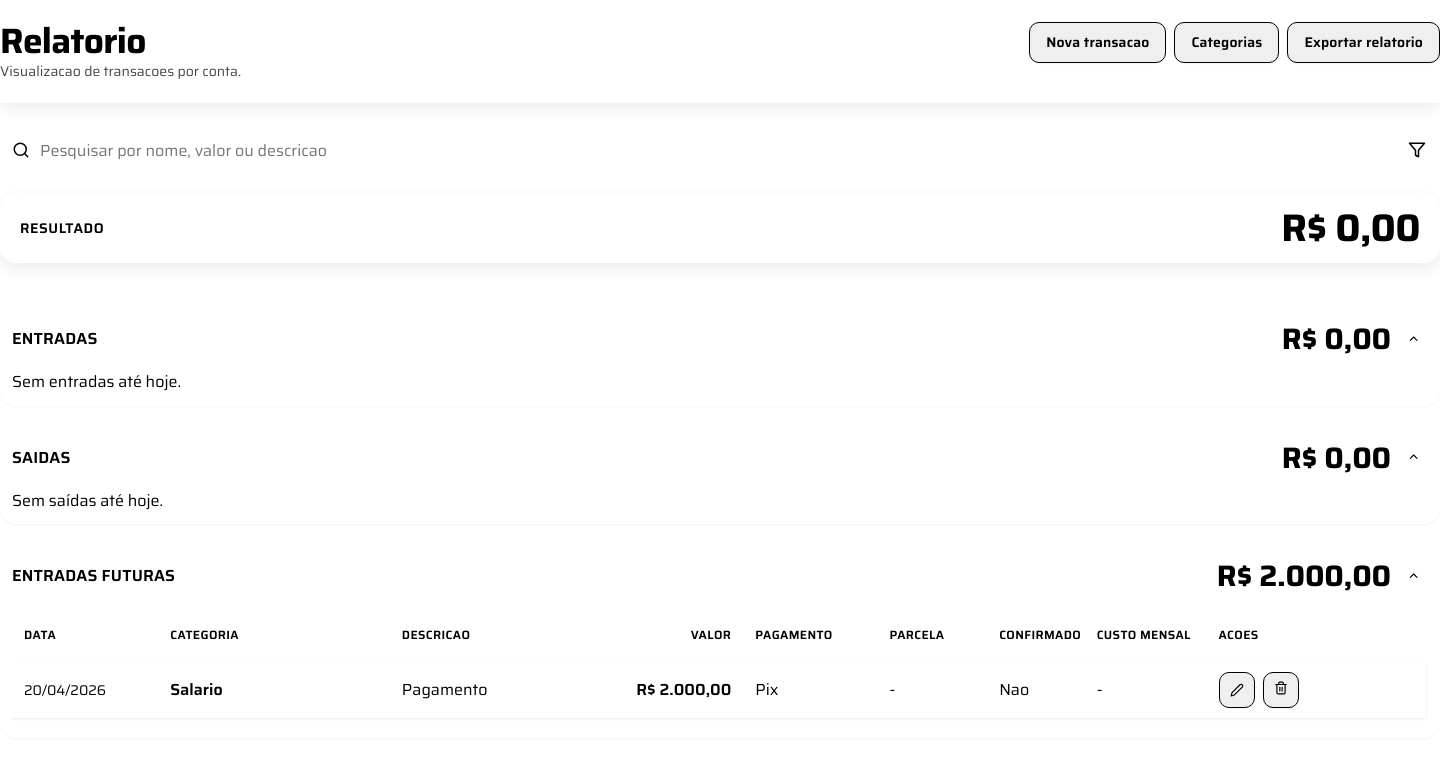
Test: Report › mostra feedback ao falhar exportacao
Expected: the heading "Entradas" is shown, [12, 329, 98, 348]
Click the button "Exportar relatorio". click: point(1364, 43)
box: [1287, 22, 1439, 63]
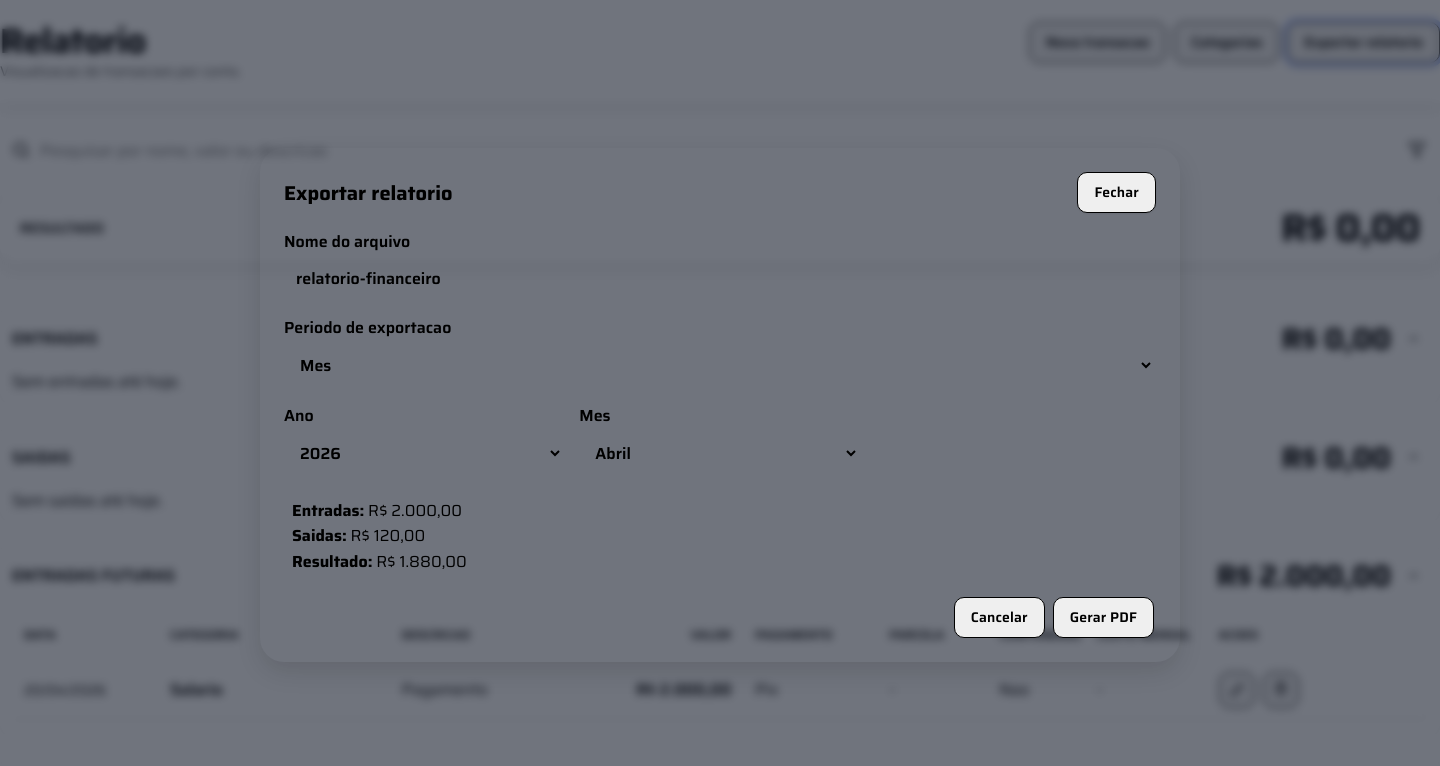
Click the button "Gerar PDF". click: point(1103, 618)
box: [1053, 597, 1154, 638]
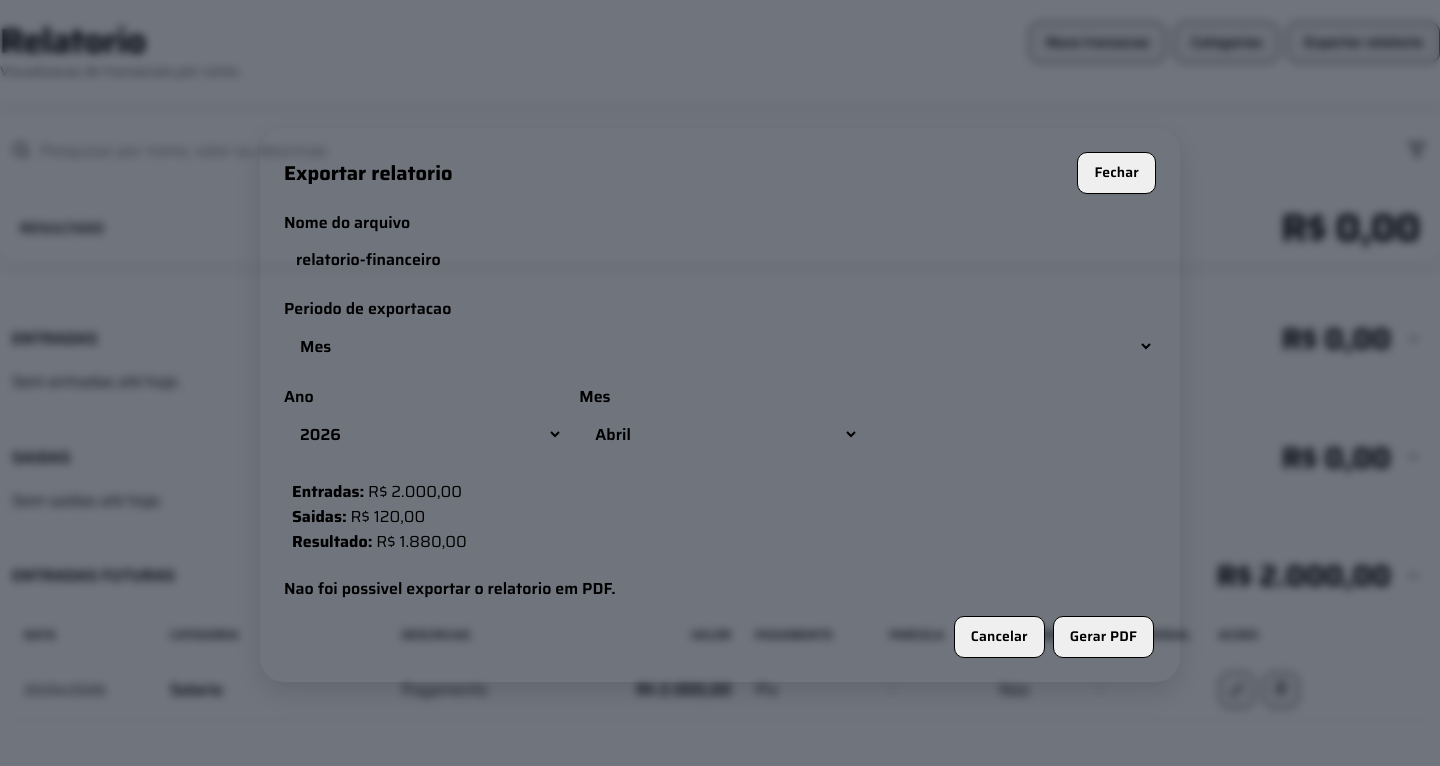
Now the text "Nao foi possivel exportar o relatorio em PDF." is shown, box [284, 576, 616, 601]
